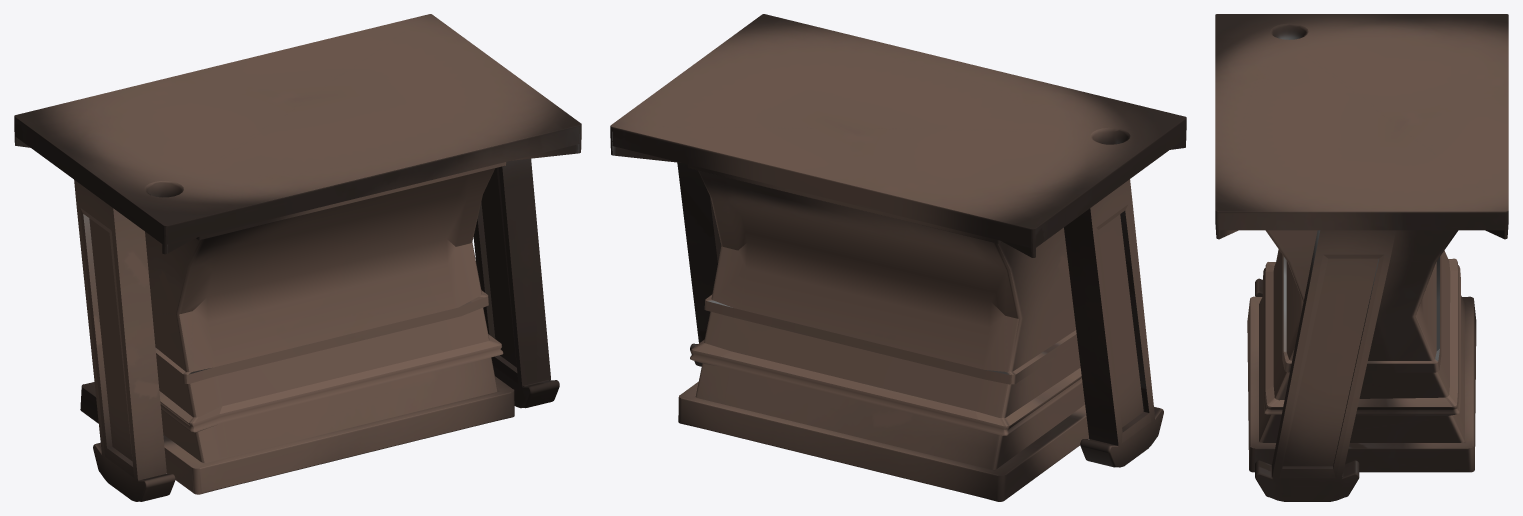
File: Table1.fbx
3 views of the same model, side by side, from view 1: azimuth 30°, elevation 25°; view 2: azimuth 150°, elevation 25°; view 3: azimuth 270°, elevation 25° (orthographic). The views are drawn at different scales.
Visible parts, largest first — view 1: table1; view 2: table1; view 3: table1.
Part boxes in pixels (x1,y1,x2,y2): table1: (14,14,581,501); table1: (610,14,1186,501); table1: (1215,14,1508,501).
Size of the model in its own units: 6.17 by 4.25 by 3.87.
Materials: 1 (1 with a texture image).
